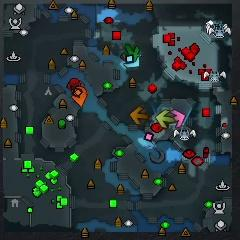p5: (72, 86, 88, 106)
x1: (172, 110, 185, 126)
x2: (155, 109, 175, 127)
x3: (124, 51, 141, 68)
x4: (125, 45, 139, 62)
x5: (131, 107, 149, 124)
